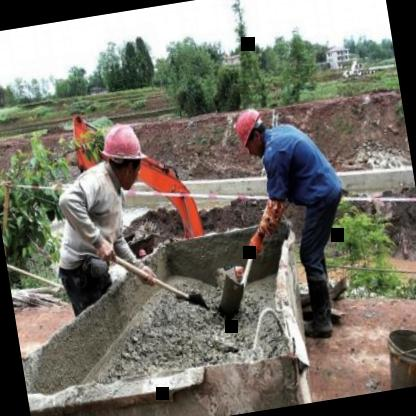helmet: (94, 116, 152, 193), (231, 105, 270, 156)
